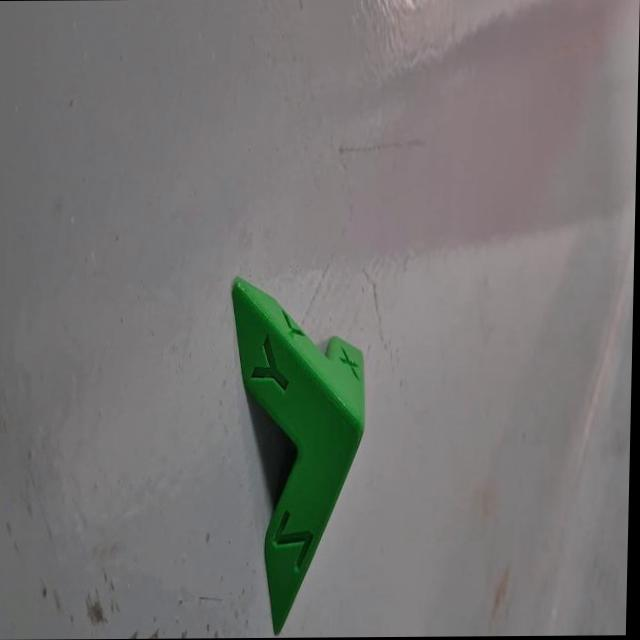eje: (217, 268, 372, 638)
